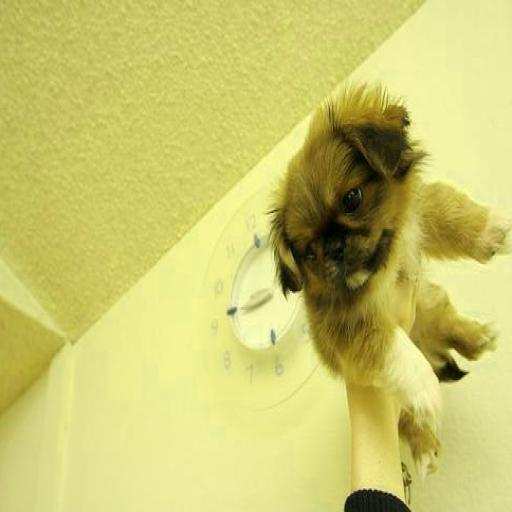dog_face: (259, 105, 419, 300)
